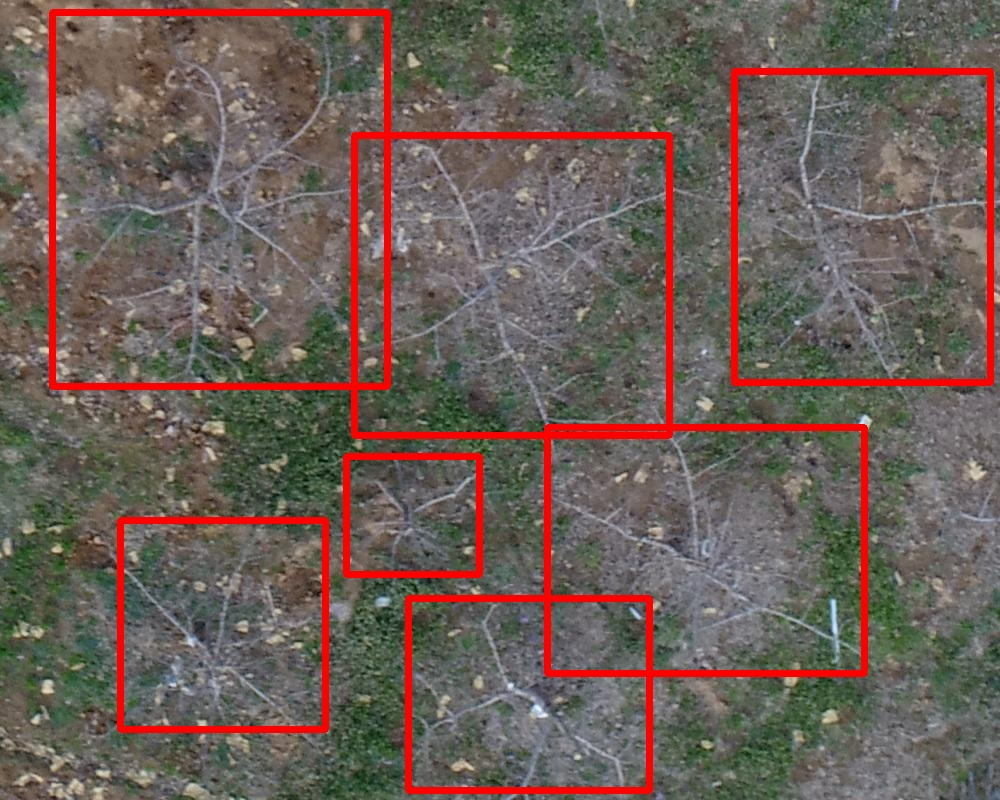apple: (52, 12, 387, 386), (354, 135, 669, 435), (734, 71, 990, 382), (547, 427, 864, 673), (408, 598, 649, 790), (120, 520, 325, 729), (346, 456, 479, 574)
